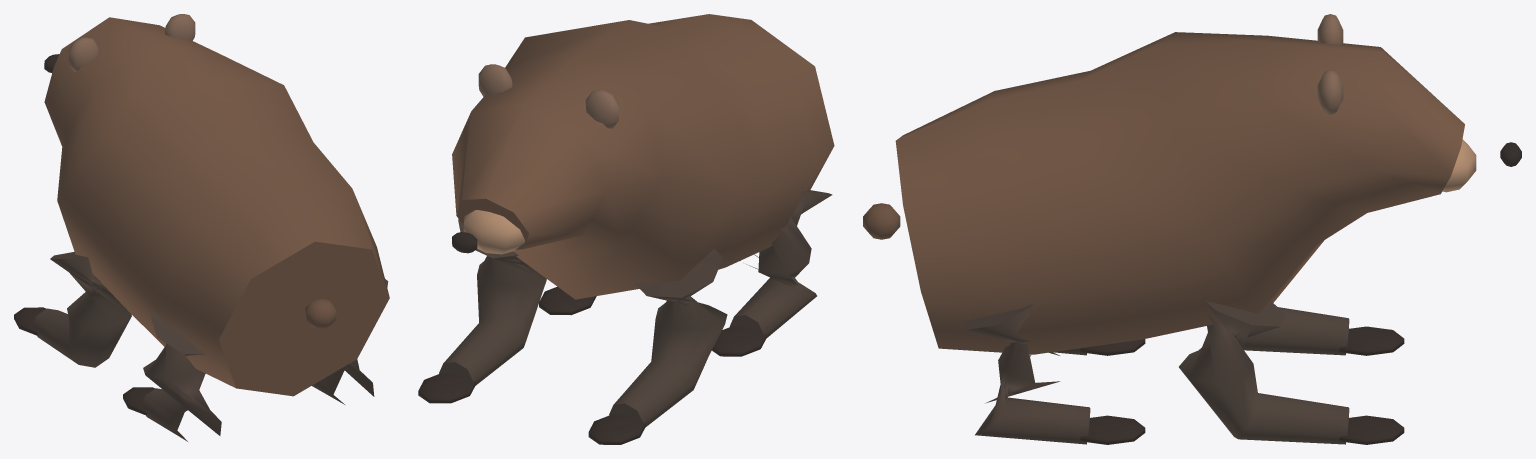
The model's file is bear_mobile.glb.
3 views of the same model, side by side, from view 1: azimuth 30°, elevation 25°; view 2: azimuth 150°, elevation 25°; view 3: azimuth 270°, elevation 25° (orthographic). The views are drawn at different scales.
Visible parts, largest first — view 1: BearOrganicBody, Leg_LF, Leg_LH, Leg_RH, TailPivot, RoundEar, RoundEar2, Paw_LF, Paw_LH; view 2: BearOrganicBody, Leg_LF, Leg_RF, Leg_LH, Muzzle, Paw_RF, Paw_LF, Paw_LH, Paw_RH, RoundEar, RoundEar2, Nose; view 3: BearOrganicBody, Leg_RF, Leg_RH, Leg_LF, Paw_LF, Paw_RH, Paw_RF, TailPivot, RoundEar2, Muzzle, RoundEar, Paw_LH.
Boxes of the visible parts, left/top/right/bottom form: BearOrganicBody: left=44, top=17, right=389, bottom=396; Leg_LF: left=32, top=252, right=131, bottom=367; Leg_LH: left=141, top=311, right=221, bottom=441; Leg_RH: left=312, top=279, right=388, bottom=404; TailPivot: left=305, top=298, right=336, bottom=328; RoundEar: left=68, top=37, right=98, bottom=71; RoundEar2: left=165, top=14, right=195, bottom=40; Paw_LF: left=14, top=307, right=46, bottom=335; Paw_LH: left=123, top=387, right=155, bottom=415; BearOrganicBody: left=452, top=14, right=834, bottom=299; Leg_LF: left=609, top=248, right=727, bottom=427; Leg_RF: left=439, top=219, right=546, bottom=385; Leg_LH: left=729, top=190, right=832, bottom=338; Muzzle: left=463, top=210, right=524, bottom=254; Paw_RF: left=418, top=373, right=475, bottom=403; Paw_LF: left=588, top=414, right=645, bottom=444; Paw_LH: left=712, top=326, right=766, bottom=356; Paw_RH: left=539, top=286, right=596, bottom=315; RoundEar: left=585, top=90, right=618, bottom=128; RoundEar2: left=478, top=64, right=512, bottom=96; Nose: left=452, top=232, right=477, bottom=253; BearOrganicBody: left=895, top=32, right=1464, bottom=354; Leg_RF: left=1179, top=300, right=1349, bottom=444; Leg_RH: left=962, top=304, right=1090, bottom=444; Leg_LF: left=1243, top=307, right=1349, bottom=355; Paw_LF: left=1339, top=326, right=1404, bottom=355; Paw_RH: left=1080, top=415, right=1145, bottom=444; Paw_RF: left=1339, top=415, right=1404, bottom=444; TailPivot: left=863, top=203, right=900, bottom=239; RoundEar2: left=1317, top=70, right=1343, bottom=114; Muzzle: left=1442, top=139, right=1476, bottom=192; RoundEar: left=1317, top=14, right=1343, bottom=44; Paw_LH: left=1080, top=339, right=1145, bottom=355.
Size of the model in its own units: 2.73 by 3.19 by 5.34.
